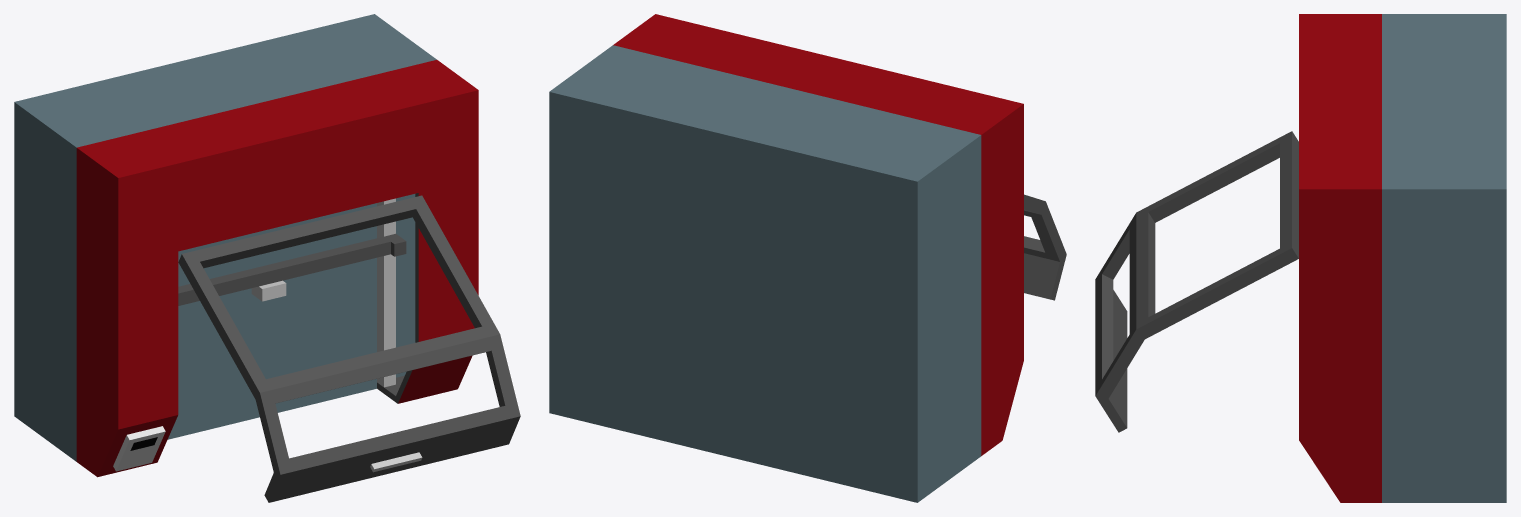
File: cnc_cutting_machine_2_state_1.dae
The picture shows the model from 3 angles, left to right: view 1: azimuth 30°, elevation 25°; view 2: azimuth 150°, elevation 25°; view 3: azimuth 270°, elevation 25°; orthographic projection. The views are drawn at different scales.
Parts seen in each view (by area): view 1: coords_ME_ID3_MA_material_7, coords_ME_ID11_MA_material_16, coords_ME_ID65_MA_material, coords_ME_ID59_MA_material, coords_ME_ID93_MA_material, coords_ME_ID99_MA_material_16, coords_ME_ID27_MA_material_11, coords_ME_ID77_MA_material_8, coords_ME_ID19_MA_material; view 2: coords_ME_ID11_MA_material_16, coords_ME_ID3_MA_material_7, coords_ME_ID65_MA_material; view 3: coords_ME_ID11_MA_material_16, coords_ME_ID3_MA_material_7, coords_ME_ID65_MA_material, coords_ME_ID93_MA_material, coords_ME_ID47_MA_material.
Part boxes in pixels (bbox=[...]): coords_ME_ID3_MA_material_7: bbox=[76, 60, 478, 477]; coords_ME_ID11_MA_material_16: bbox=[14, 14, 436, 461]; coords_ME_ID65_MA_material: bbox=[178, 195, 520, 502]; coords_ME_ID59_MA_material: bbox=[178, 233, 406, 305]; coords_ME_ID93_MA_material: bbox=[200, 209, 481, 328]; coords_ME_ID99_MA_material_16: bbox=[396, 194, 415, 377]; coords_ME_ID27_MA_material_11: bbox=[377, 198, 395, 387]; coords_ME_ID77_MA_material_8: bbox=[113, 426, 165, 471]; coords_ME_ID19_MA_material: bbox=[377, 193, 418, 403]; coords_ME_ID11_MA_material_16: bbox=[549, 45, 981, 502]; coords_ME_ID3_MA_material_7: bbox=[613, 14, 1023, 455]; coords_ME_ID65_MA_material: bbox=[1024, 194, 1066, 300]; coords_ME_ID11_MA_material_16: bbox=[1382, 14, 1506, 502]; coords_ME_ID3_MA_material_7: bbox=[1299, 14, 1381, 502]; coords_ME_ID65_MA_material: bbox=[1095, 131, 1298, 432]; coords_ME_ID93_MA_material: bbox=[1148, 143, 1279, 316]; coords_ME_ID47_MA_material: bbox=[1102, 230, 1129, 378].
Bounding box in the file's own units: 33.07 × 27.56 × 32.75.
